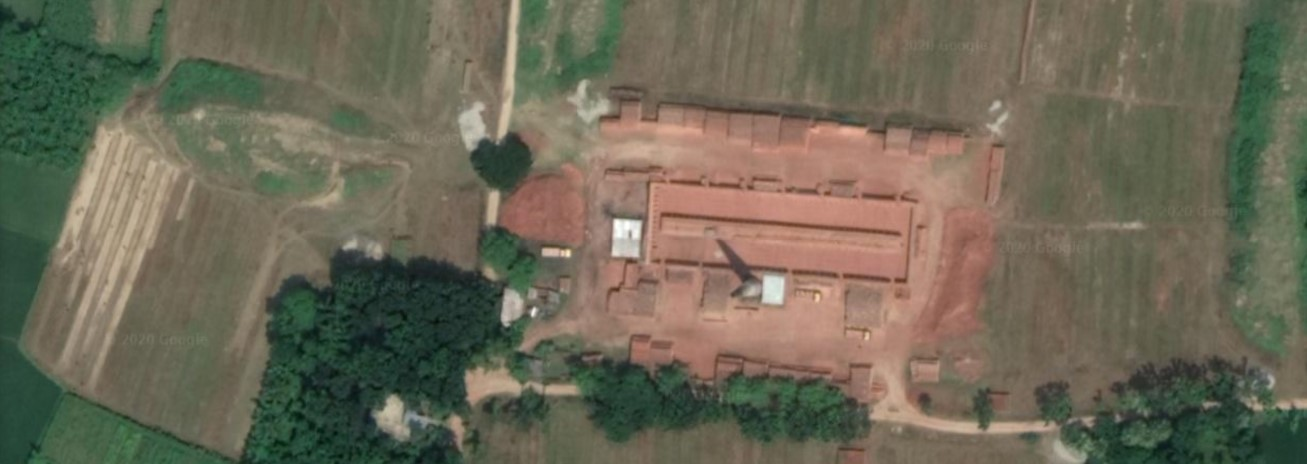kiln: (637, 163, 915, 331)
